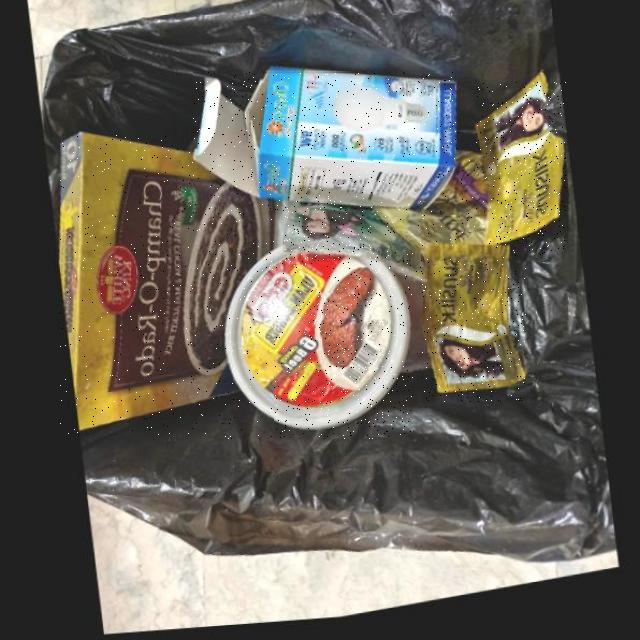paper: (59, 135, 274, 435), (194, 72, 458, 219)
plastic: (225, 254, 413, 438)
wrapper: (421, 251, 526, 402), (476, 81, 566, 255), (374, 159, 490, 264), (284, 207, 426, 289)
